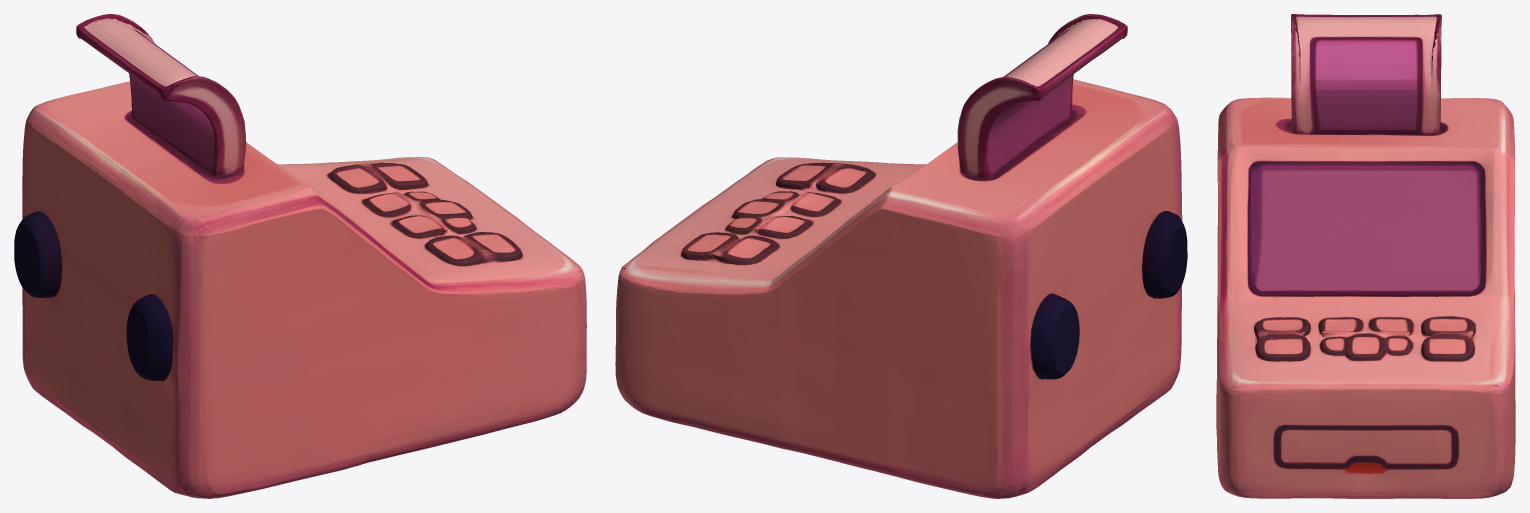
The picture shows the model from 3 angles, left to right: view 1: azimuth 30°, elevation 25°; view 2: azimuth 150°, elevation 25°; view 3: azimuth 270°, elevation 25°; orthographic projection. The views are drawn at different scales.
Parts seen in each view (by area): view 1: world; view 2: world; view 3: world.
Boxes of the visible parts, box(x1,y1,x2,y2) form: world: box(14, 14, 586, 498); world: box(615, 14, 1187, 498); world: box(1216, 14, 1515, 498).
Size of the model in its own units: 98.85 by 85.59 by 69.78.
1 material, 1 textured.
